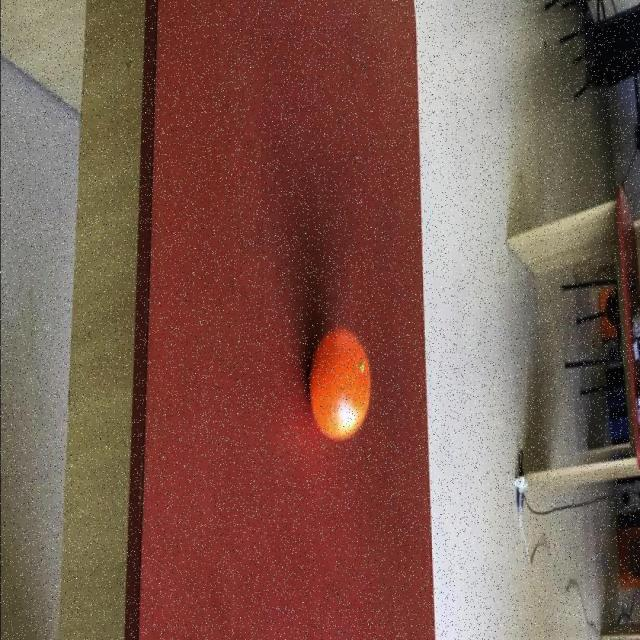Orange: (308, 328, 372, 444)
